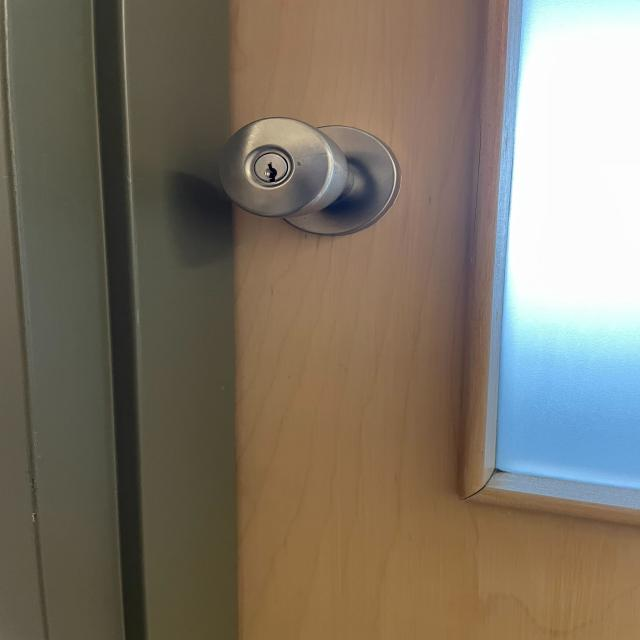door-knob: (220, 118, 400, 235)
